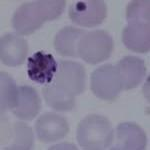Infected: (26, 50, 58, 82)
Uninfected: (76, 111, 113, 150), (91, 63, 125, 99), (79, 29, 113, 64), (13, 0, 47, 34), (67, 0, 107, 28), (56, 60, 86, 97), (54, 28, 89, 58), (117, 54, 146, 90), (33, 111, 69, 140), (13, 86, 43, 120), (120, 19, 150, 51), (114, 120, 146, 150), (0, 33, 29, 66), (43, 83, 75, 111)
